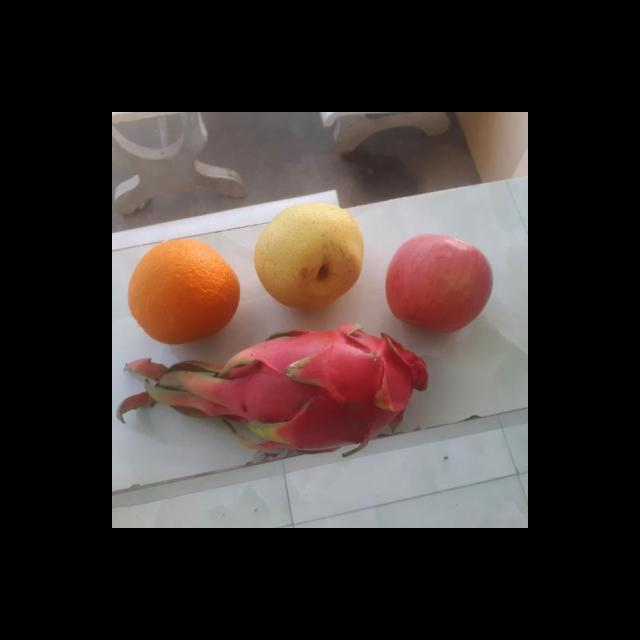apple: (384, 232, 496, 334)
orange: (128, 237, 244, 343)
pear: (250, 204, 369, 310)
pitaya: (222, 322, 444, 438)
